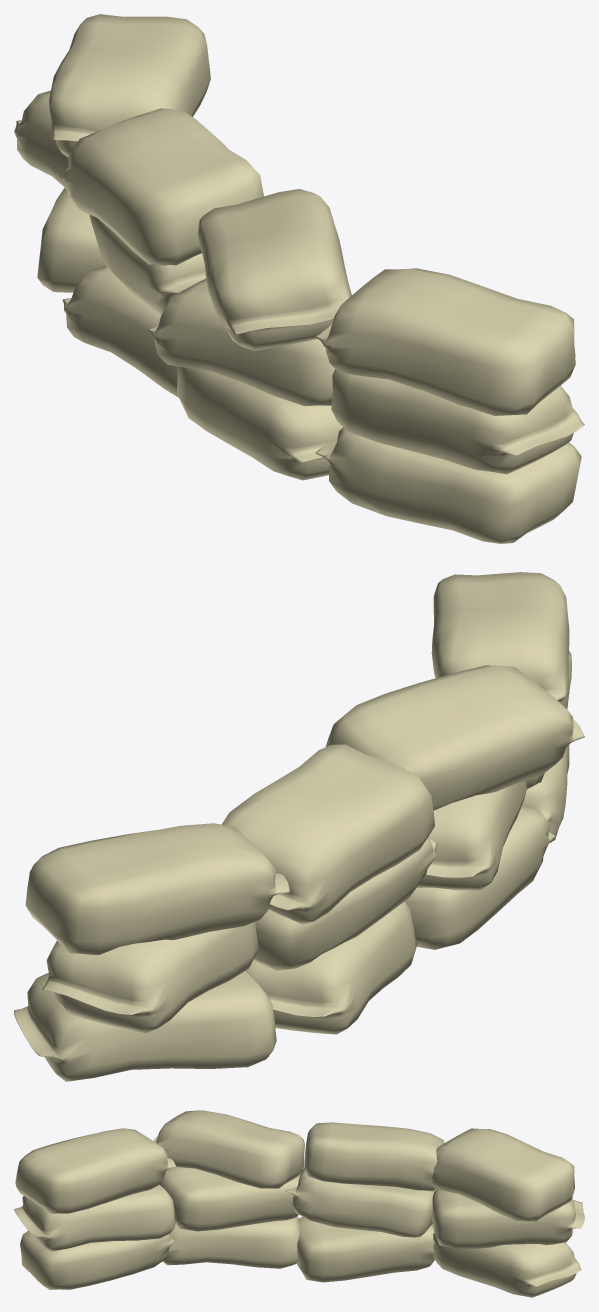
Rendered from sand_bags.FBX.
The picture shows the model from 3 angles, top to bottom: view 1: azimuth 30°, elevation 25°; view 2: azimuth 150°, elevation 25°; view 3: azimuth 270°, elevation 25°; orthographic projection. The views are drawn at different scales.
Parts seen in each view (by area): view 1: Box91, Box84, Box80, Box85, Box88, Box87, Box83, Box86, Box82, Box89, Box81, Box90; view 2: Box88, Box84, Box80, Box89, Box90, Box91, Box82, Box81, Box83, Box86, Box85; view 3: Box91, Box88, Box80, Box84, Box82, Box81, Box87, Box86, Box90, Box89, Box85, Box83.
Part boxes in pixels (left/top/right/bottom): Box91: left=315, top=268, right=575, bottom=415; Box84: left=63, top=108, right=263, bottom=265; Box80: left=198, top=189, right=351, bottom=350; Box85: left=315, top=427, right=581, bottom=543; Box88: left=49, top=14, right=210, bottom=157; Box87: left=331, top=369, right=584, bottom=474; Box83: left=177, top=366, right=342, bottom=480; Box86: left=147, top=278, right=335, bottom=406; Box82: left=62, top=265, right=178, bottom=397; Box89: left=37, top=187, right=105, bottom=292; Box81: left=89, top=214, right=205, bottom=314; Box90: left=14, top=90, right=68, bottom=189; Box88: left=25, top=823, right=289, bottom=954; Box84: left=221, top=744, right=434, bottom=924; Box80: left=325, top=665, right=584, bottom=810; Box89: left=14, top=970, right=276, bottom=1081; Box90: left=41, top=922, right=258, bottom=1033; Box91: left=431, top=572, right=569, bottom=708; Box82: left=246, top=901, right=417, bottom=1034; Box81: left=253, top=837, right=437, bottom=970; Box83: left=404, top=806, right=556, bottom=949; Box86: left=416, top=780, right=526, bottom=890; Box85: left=522, top=745, right=569, bottom=843; Box91: left=15, top=1128, right=176, bottom=1213; Box88: left=432, top=1128, right=574, bottom=1221; Box80: left=153, top=1110, right=305, bottom=1188; Box84: left=304, top=1122, right=444, bottom=1191; Box82: left=296, top=1217, right=434, bottom=1282; Box81: left=285, top=1167, right=436, bottom=1237; Box87: left=14, top=1184, right=175, bottom=1251; Box86: left=159, top=1167, right=299, bottom=1231; Box90: left=432, top=1189, right=584, bottom=1248; Box89: left=433, top=1233, right=581, bottom=1297; Box85: left=20, top=1231, right=174, bottom=1289; Box83: left=163, top=1216, right=299, bottom=1268.
Size of the model in its own units: 31.31 by 24.52 by 91.94.
